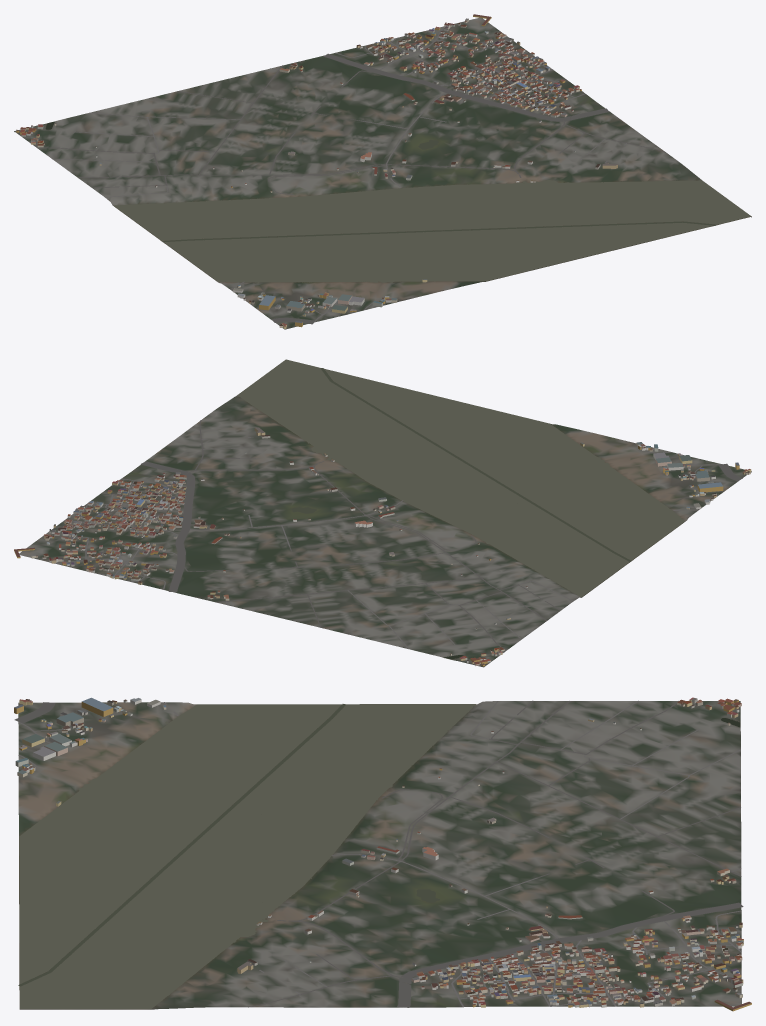
3 renders of one model, top to bottom at view 1: azimuth 30°, elevation 25°; view 2: azimuth 150°, elevation 25°; view 3: azimuth 270°, elevation 25°, orthographic. The views are drawn at different scales.
Parts seen in each view (by area): view 1: ground, water, buildings, roads; view 2: ground, water, buildings, roads; view 3: ground, water, buildings, roads.
Part boxes in pixels (x1,y1,x2,y2): ground: (14, 17, 751, 329); water: (45, 121, 750, 283); buildings: (16, 14, 617, 328); roads: (35, 26, 665, 324); ground: (19, 361, 751, 667); water: (237, 359, 684, 659); buildings: (14, 427, 751, 666); roads: (54, 420, 742, 653); ground: (18, 701, 741, 1009); water: (18, 704, 740, 1008); buildings: (14, 697, 751, 1011); roads: (14, 700, 743, 1007).
Bounding box in the file's own units: 1427 × 20.14 × 1432.
